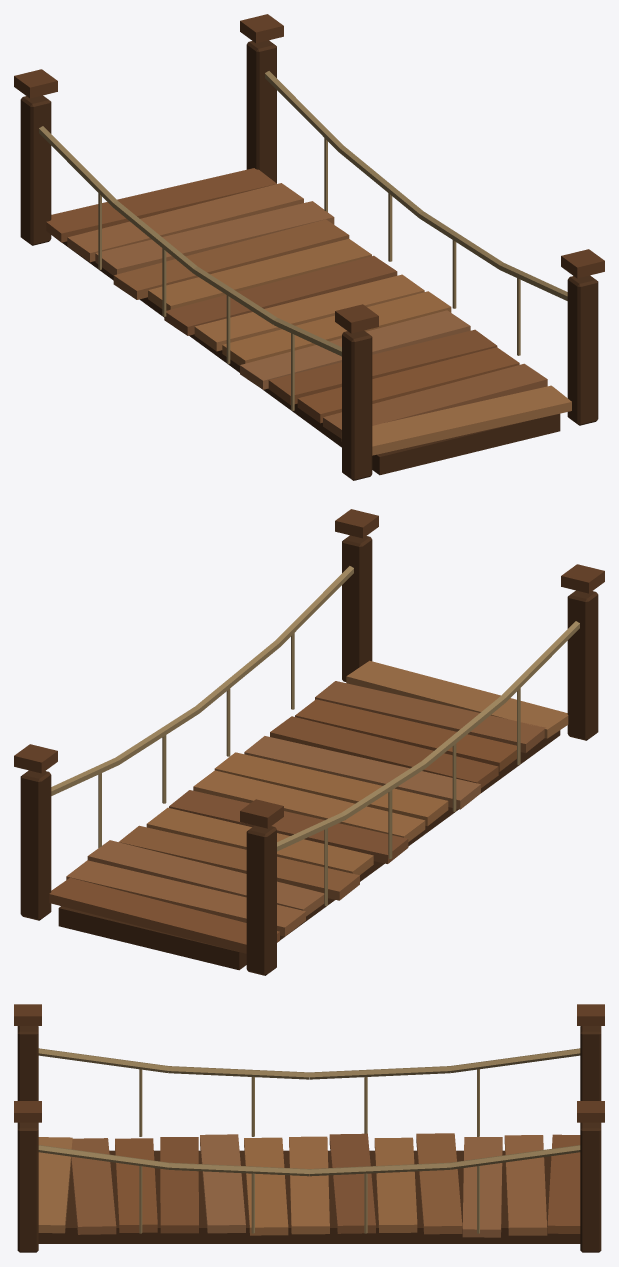
Rendered from RopeBridge.glb.
3 views of the same model, one above another, from view 1: azimuth 30°, elevation 25°; view 2: azimuth 150°, elevation 25°; view 3: azimuth 270°, elevation 25° (orthographic). The views are drawn at different scales.
Visible parts, largest first — view 1: Deck, Body; view 2: Deck, Body; view 3: Deck, Body.
Boxes of the visible parts, <box> form: Deck: <box>46,168,571,475</box>; Body: <box>14,14,604,480</box>; Deck: <box>49,660,568,970</box>; Body: <box>14,509,604,975</box>; Deck: <box>38,1133,580,1243</box>; Body: <box>14,1004,604,1252</box>.
Size of what is drawn, in the model's own units: 7.3 by 4.6 by 16.8.
